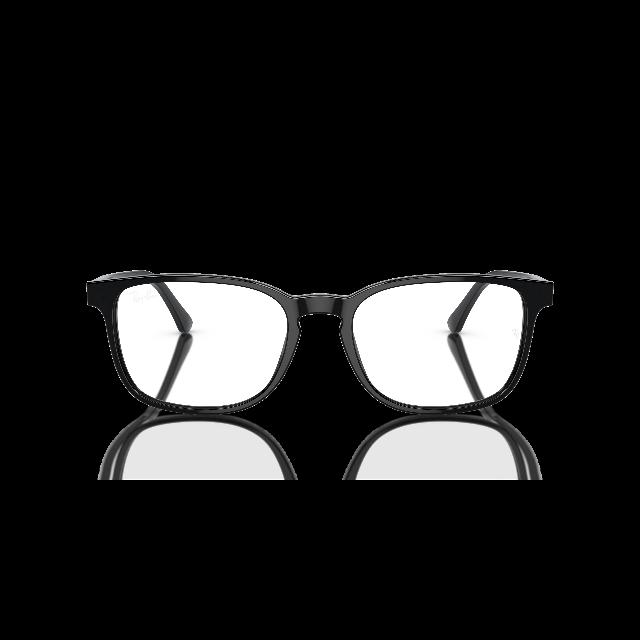glasses: (79, 252, 566, 420)
